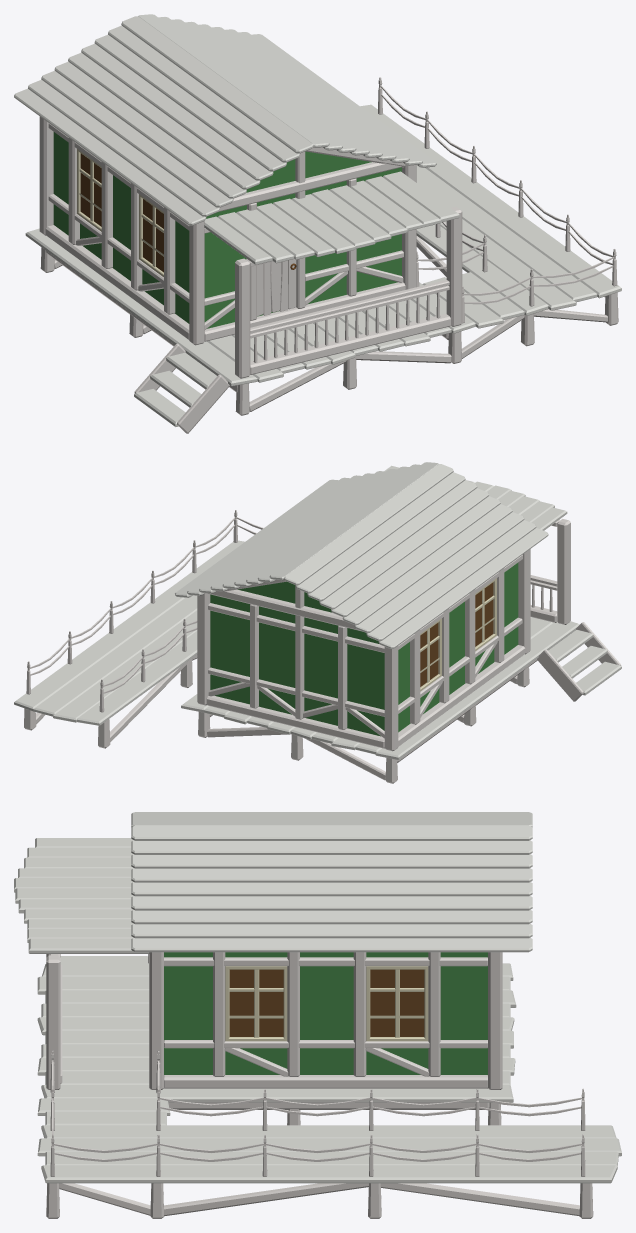
The model's file is farmstractures_16.gltf.
The picture shows the model from 3 angles, top to bottom: view 1: azimuth 30°, elevation 25°; view 2: azimuth 150°, elevation 25°; view 3: azimuth 270°, elevation 25°; orthographic projection. The views are drawn at different scales.
Visible parts, largest first — view 1: blades, body; view 2: blades, body; view 3: blades, body.
Part boxes in pixels (x1=…): blades: x1=14, y1=14, x2=457, y2=328; body: x1=14, y1=16, x2=621, y2=433; blades: x1=176, y1=462, x2=567, y2=736; body: x1=14, y1=463, x2=621, y2=783; blades: x1=14, y1=812, x2=531, y2=1075; body: x1=14, y1=813, x2=621, y2=1218.
Bounding box in the file's own units: 8.59 × 4.16 × 9.04.
Materials: 1 (1 with a texture image).
